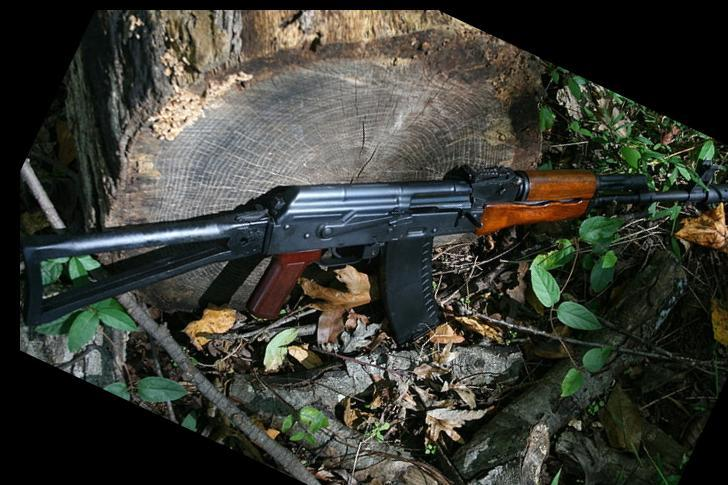larga: (22, 165, 728, 345)
